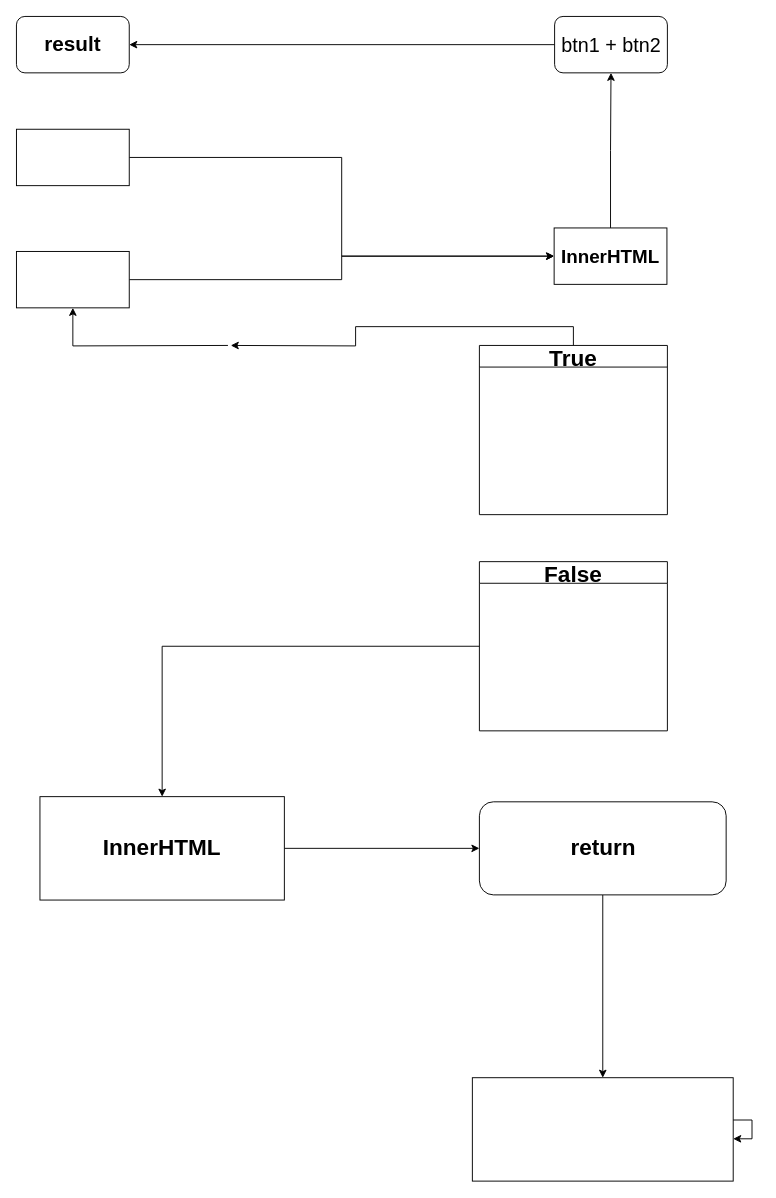
Some shapes in this 776 by 1198 pixel diagram are drawn without their labels. The shapes that lost their labels are listed below. From the top down, each one's centre as x and y in pixels, then its label:
(x=72, y=157): btn1
(x=72, y=279): btn2
(x=602, y=1129): main.value == ""
